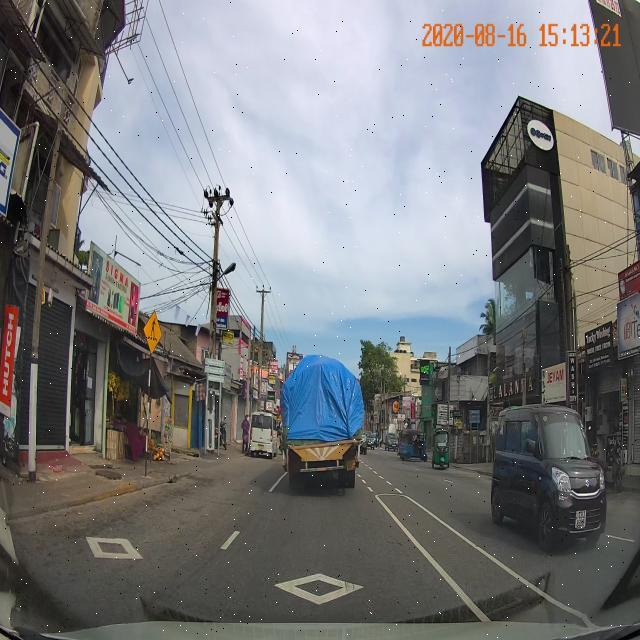diamond: (163, 572, 482, 613)
